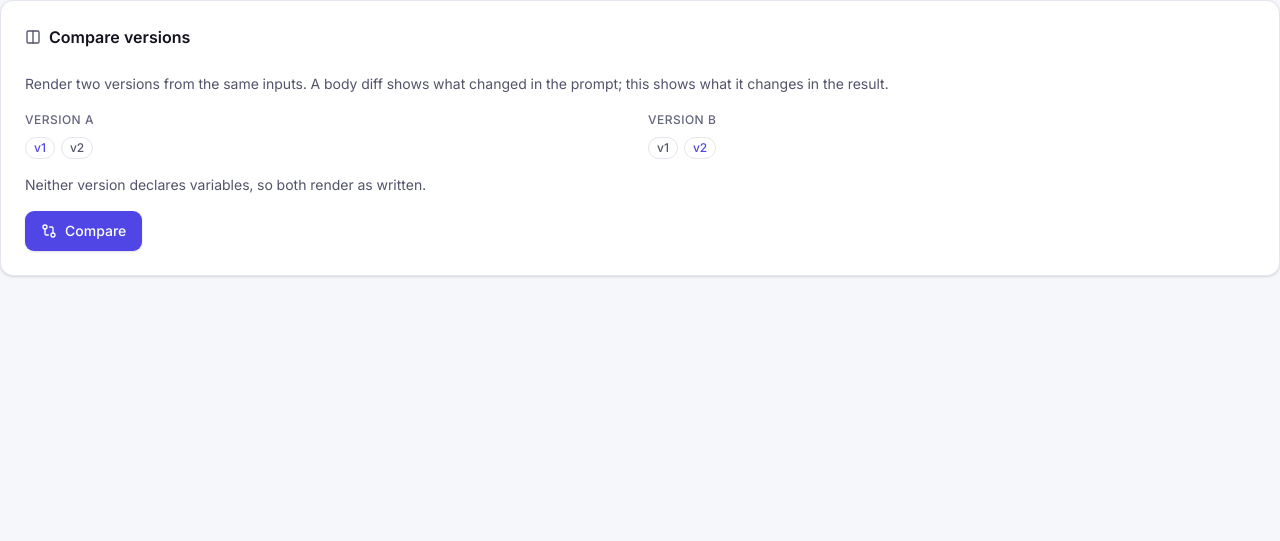
Test: PromptComparison › diffs the two results when they differ
The image size is (1280, 541).
Click the button with test id "compare-submit": (84, 231) x1=25 y1=211 x2=142 y2=251
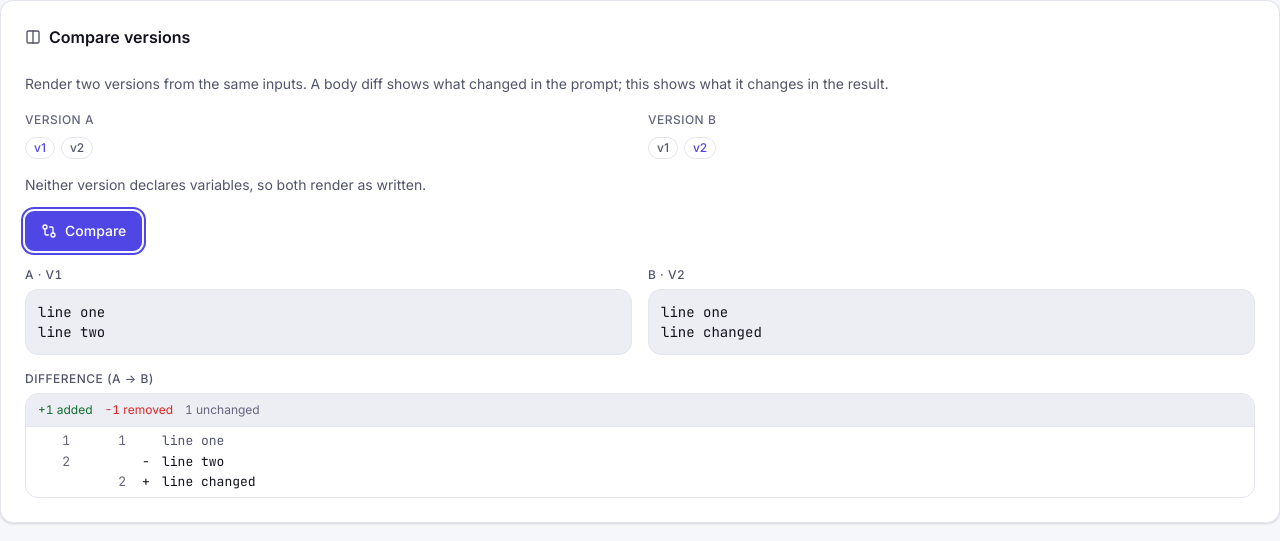
Check: the element with test id "compare-diff" is shown, box x1=25 y1=393 x2=1255 y2=498
